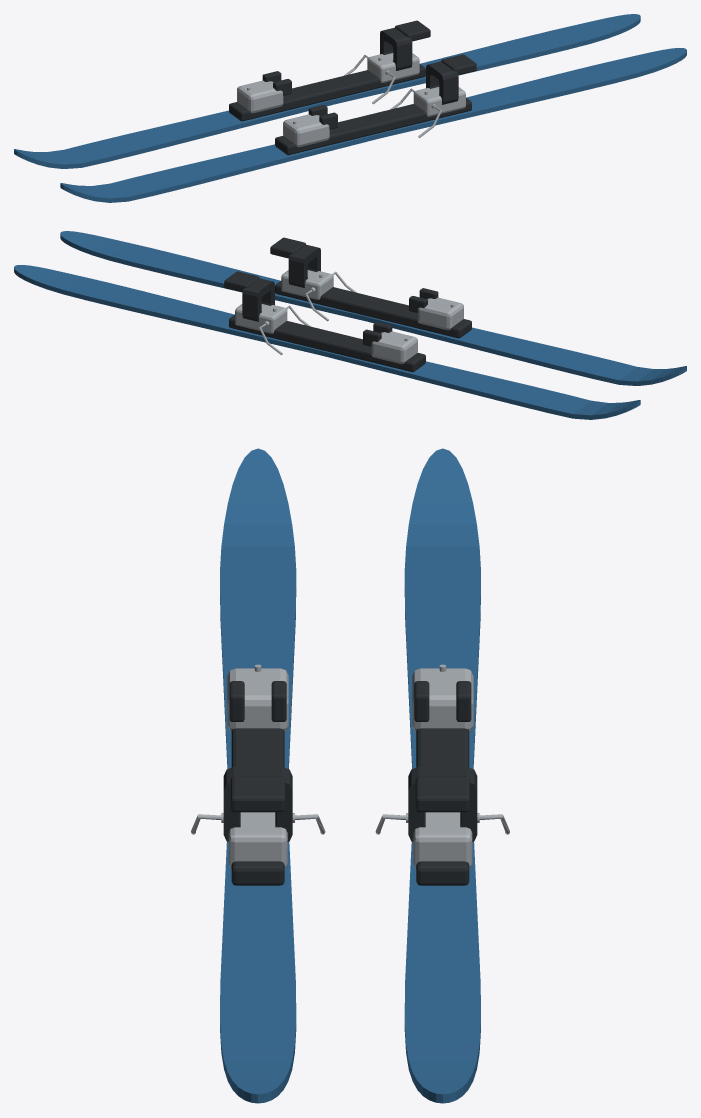
File: full.fbx
The picture shows the model from 3 angles, top to bottom: view 1: azimuth 30°, elevation 25°; view 2: azimuth 150°, elevation 25°; view 3: azimuth 270°, elevation 25°; orthographic projection. The views are drawn at different scales.
Visible parts, largest first — view 1: Waisted downhill ski 0, Waisted downhill ski 1, Long mounting plate 1, Long mounting plate 0, Toe housing 0, Toe housing 1, Open heel retainer 0, Open heel retainer 1, Heel pedestal 0, Heel pedestal 1, Heel release pad 0, Heel release pad 1; view 2: Waisted downhill ski 1, Waisted downhill ski 0, Long mounting plate 0, Long mounting plate 1, Toe housing 1, Toe housing 0, Open heel retainer 1, Open heel retainer 0, Heel pedestal 0, Heel pedestal 1, Heel release pad 0, Heel release pad 1; view 3: Waisted downhill ski 1, Waisted downhill ski 0, Long mounting plate 0, Long mounting plate 1, Heel pedestal 0, Heel pedestal 1, Toe housing 0, Toe housing 1, Heel release pad 0, Heel release pad 1, Open heel retainer 0, Open heel retainer 1.
Boxes of the visible parts, x1,y1,x2,y2 form: Waisted downhill ski 0: (60,48,686,202); Waisted downhill ski 1: (14,14,640,168); Long mounting plate 1: (229,64,425,121); Long mounting plate 0: (275,98,471,155); Toe housing 0: (283,114,329,147); Toe housing 1: (237,80,283,113); Open heel retainer 0: (426,61,458,104); Open heel retainer 1: (380,27,412,70); Heel pedestal 0: (413,87,465,116); Heel pedestal 1: (367,53,419,82); Heel release pad 0: (441,54,476,75); Heel release pad 1: (395,20,430,41); Waisted downhill ski 1: (14,265,640,419); Waisted downhill ski 0: (60,231,686,385); Long mounting plate 0: (275,281,471,338); Long mounting plate 1: (229,315,425,372); Toe housing 1: (371,331,417,364); Toe housing 0: (417,297,463,330); Open heel retainer 1: (242,278,274,321); Open heel retainer 0: (288,244,320,287); Heel pedestal 0: (281,270,333,299); Heel pedestal 1: (235,304,287,333); Heel release pad 0: (270,237,305,258); Heel release pad 1: (224,271,259,292); Waisted downhill ski 1: (404,448,480,1103); Waisted downhill ski 0: (220,448,296,1103); Long mounting plate 0: (231,728,284,885); Long mounting plate 1: (416,728,469,885); Heel pedestal 0: (228,812,287,868); Heel pedestal 1: (413,812,472,868); Toe housing 0: (227,668,288,731); Toe housing 1: (412,668,473,731); Heel release pad 0: (231,776,285,812); Heel release pad 1: (415,776,469,812); Open heel retainer 0: (223,767,292,841); Open heel retainer 1: (408,767,477,841).
Bounding box in the file's own units: 172 × 13.52 × 38.
